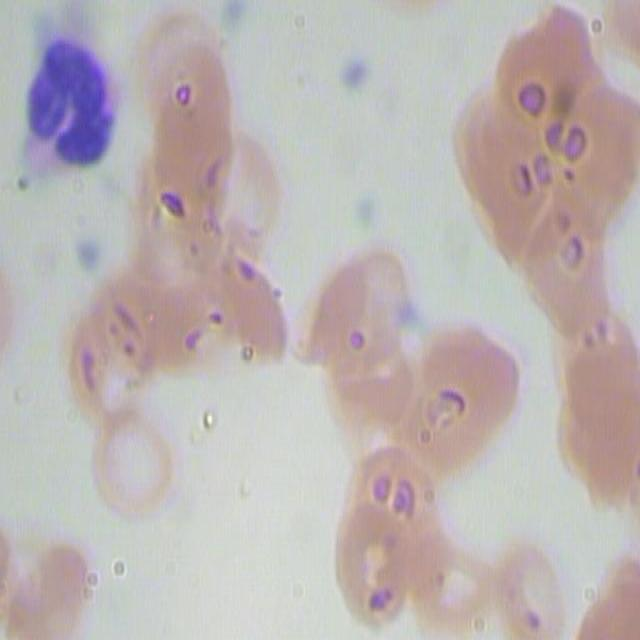RBC: (324, 239, 440, 427), (552, 298, 638, 508), (127, 0, 234, 138), (410, 338, 522, 466), (499, 4, 600, 141), (465, 88, 558, 236), (55, 296, 176, 397), (86, 399, 184, 522), (188, 142, 288, 261), (326, 496, 416, 628), (200, 243, 292, 367), (575, 1, 640, 123), (427, 536, 498, 628), (575, 541, 638, 640)
WBC: (7, 6, 124, 184)
platelets: (73, 228, 116, 290), (338, 51, 373, 99)
